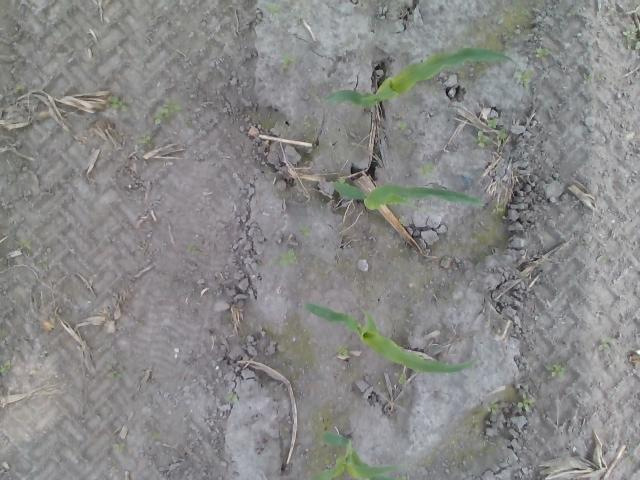Maize: (322, 46, 518, 114), (302, 302, 478, 374), (332, 181, 484, 213), (309, 431, 407, 480)
Weeds: (152, 98, 182, 125), (106, 96, 134, 112), (512, 68, 532, 90), (622, 26, 640, 50), (136, 132, 156, 151), (544, 362, 566, 378), (516, 393, 536, 410), (279, 53, 297, 71), (418, 162, 436, 180), (278, 248, 296, 266), (472, 130, 488, 147), (106, 364, 125, 378), (598, 336, 615, 350), (15, 238, 32, 250), (267, 2, 280, 17), (496, 128, 506, 146), (535, 46, 550, 58), (298, 224, 310, 238), (0, 358, 11, 373), (392, 121, 408, 131), (225, 391, 238, 403), (336, 344, 349, 356), (486, 401, 498, 414), (394, 372, 406, 384), (486, 118, 499, 129), (112, 442, 126, 452), (582, 72, 593, 84), (492, 204, 504, 215), (14, 82, 26, 92), (566, 8, 579, 17), (338, 177, 350, 186), (144, 431, 158, 438), (398, 219, 408, 227), (187, 244, 195, 253), (597, 254, 606, 262), (304, 120, 311, 130)
